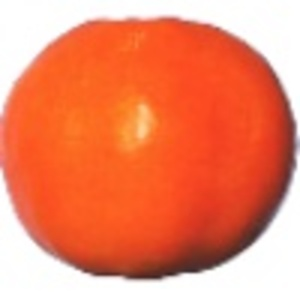tangerina: (1, 14, 300, 284)
